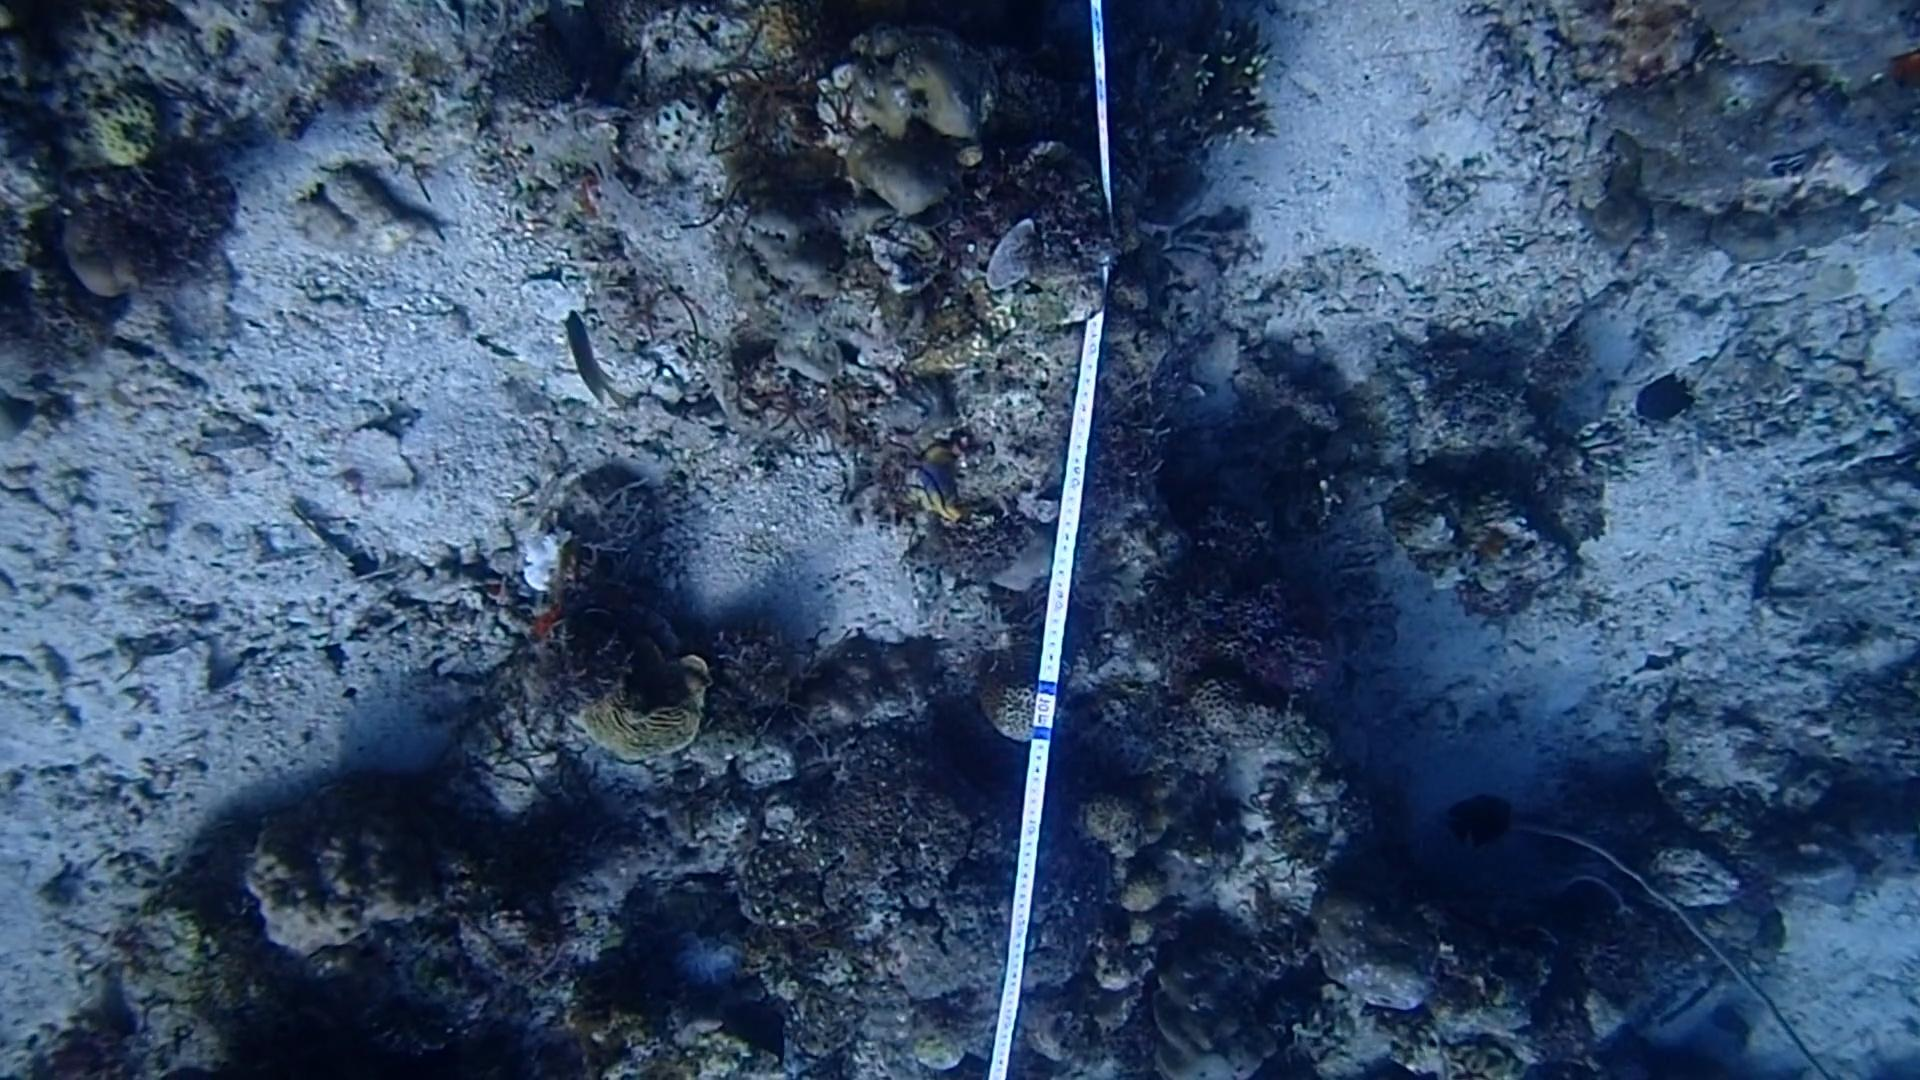Dark Fish: (1443, 787, 1527, 856), (1626, 363, 1708, 433), (720, 992, 787, 1072)
Light Fish: (551, 310, 638, 422)
